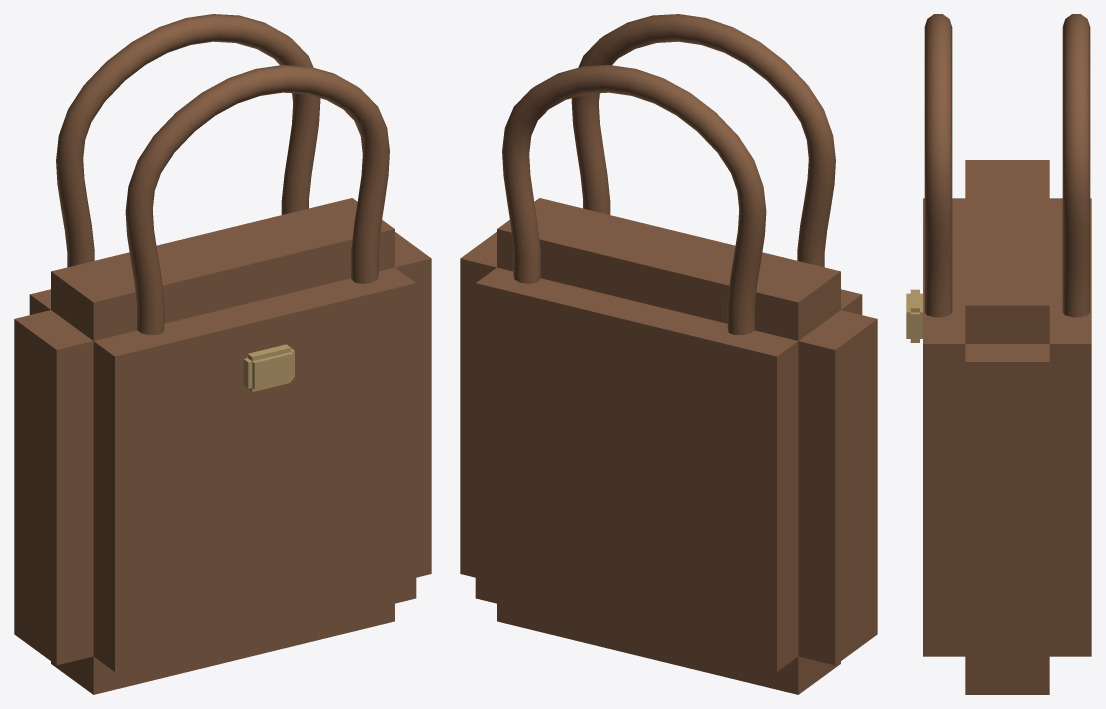
File: sku_bag.glb
The picture shows the model from 3 angles, left to right: view 1: azimuth 30°, elevation 25°; view 2: azimuth 150°, elevation 25°; view 3: azimuth 270°, elevation 25°; orthographic projection.
Visible parts, largest first — view 1: sku_bag_Leather_stitching, sku_bag_Satin_champagne; view 2: sku_bag_Leather_stitching; view 3: sku_bag_Leather_stitching, sku_bag_Satin_champagne.
Boxes of the visible parts, x1,y1,x2,y2 form: sku_bag_Leather_stitching: (14,14,431,694); sku_bag_Satin_champagne: (243,344,294,391); sku_bag_Leather_stitching: (460,14,877,694); sku_bag_Leather_stitching: (923,14,1091,694); sku_bag_Satin_champagne: (906,289,922,342).
Bounding box in the file's own units: 0.28 × 0.4264 × 0.121.
